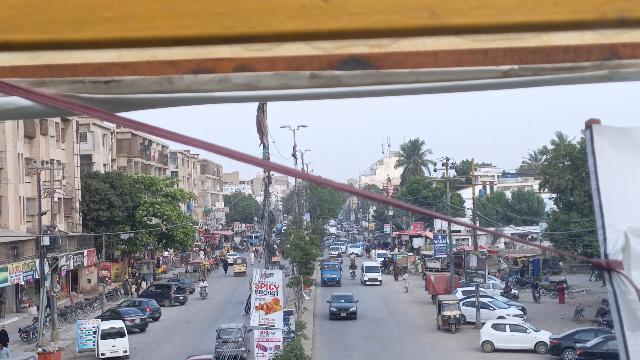Bike: (570, 300, 586, 325), (530, 288, 543, 307), (198, 284, 209, 300), (348, 268, 358, 282)
Car: (477, 319, 550, 354), (546, 326, 613, 360), (459, 296, 526, 327), (212, 321, 252, 360), (94, 306, 149, 334), (573, 333, 623, 360), (140, 282, 189, 306), (115, 298, 163, 321), (325, 291, 360, 321)
Person: (400, 269, 411, 294), (529, 278, 542, 293), (0, 328, 10, 347), (0, 344, 10, 360), (199, 277, 209, 289), (348, 261, 359, 271)
Rickshaw: (434, 293, 463, 335), (232, 256, 249, 277)
Truck: (319, 256, 344, 287)
Van: (92, 321, 131, 360), (360, 260, 382, 287)
